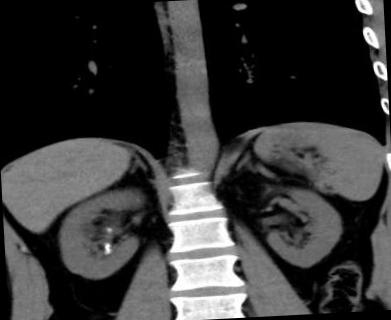Tas_Var: (104, 226, 115, 234), (103, 245, 111, 252), (104, 251, 112, 255), (103, 242, 111, 245)
